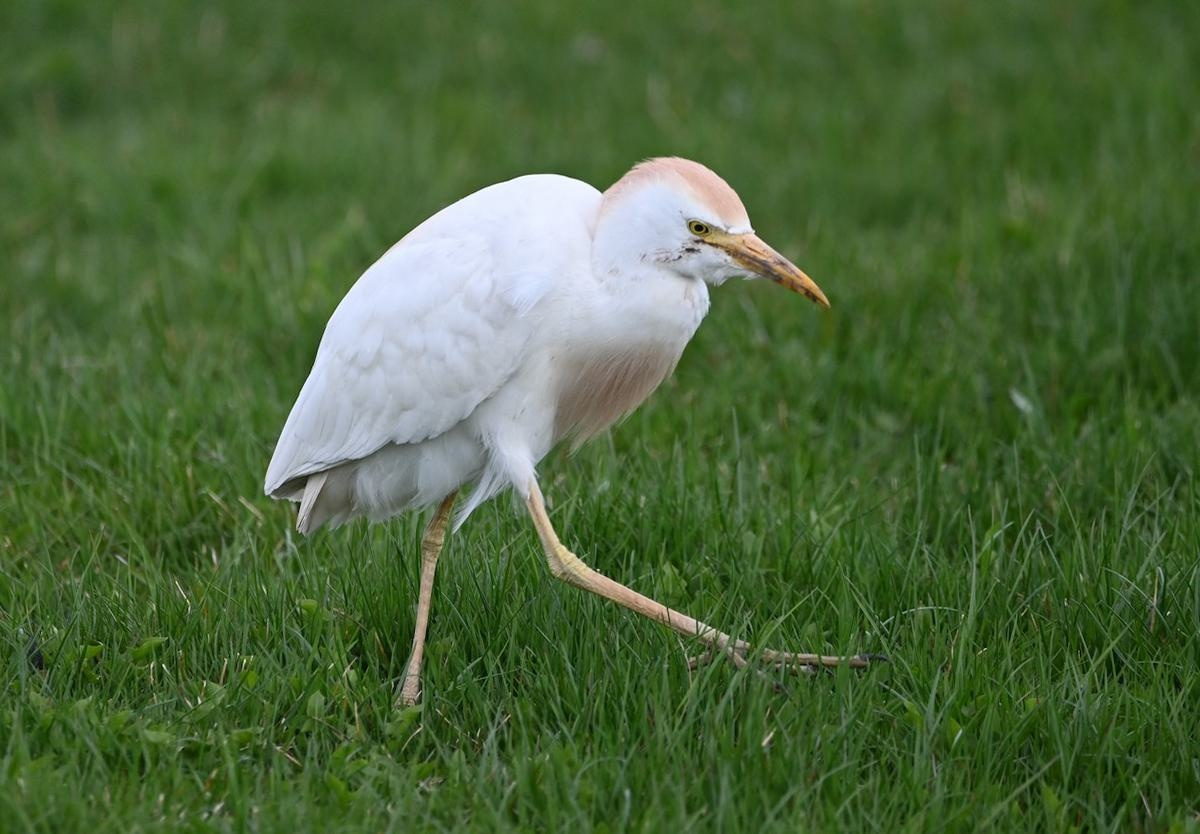egret: (279, 138, 846, 730)
